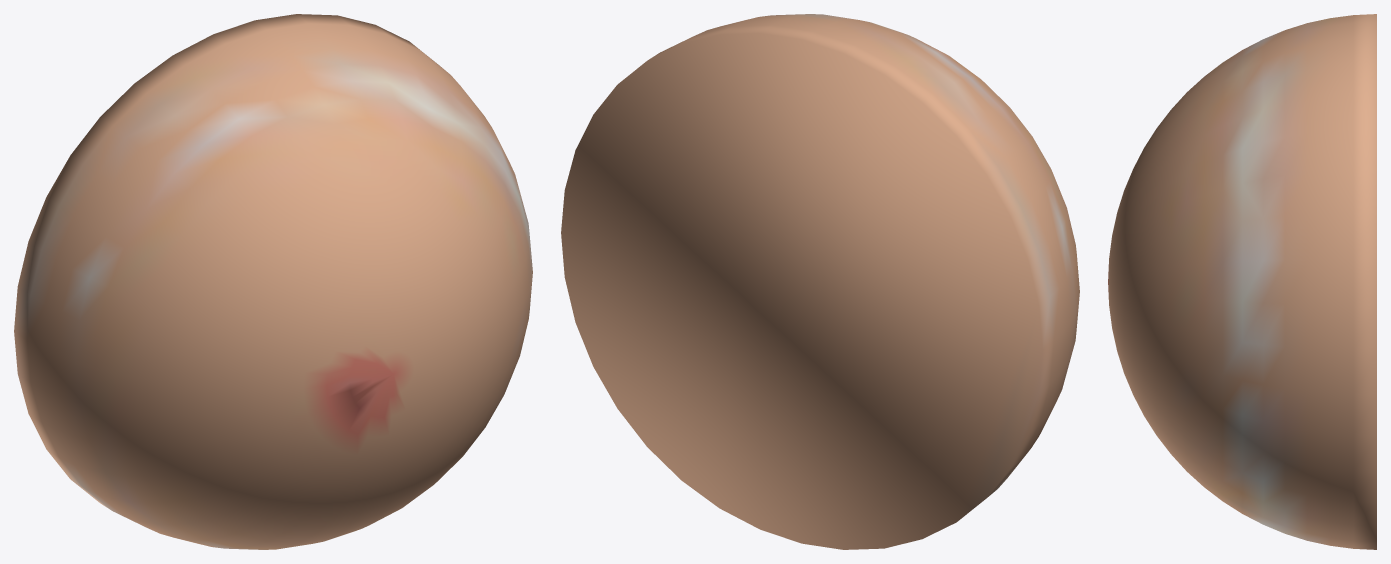
Rendered from small-full.obj.
The picture shows the model from 3 angles, left to right: view 1: azimuth 30°, elevation 25°; view 2: azimuth 150°, elevation 25°; view 3: azimuth 270°, elevation 25°; orthographic projection. The views are drawn at different scales.
Size of the model in its own units: 3 by 3 by 1.5.
